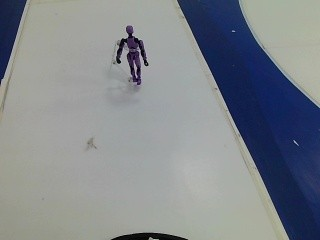pedestrian: (105, 21, 156, 96)
